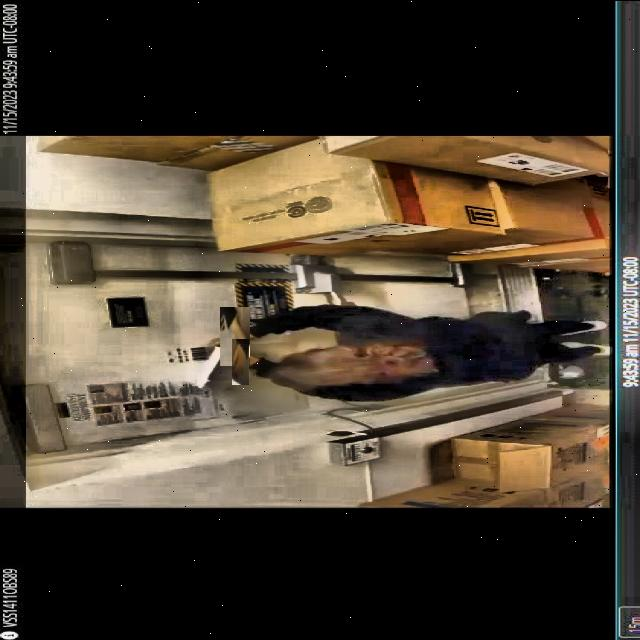not-gloved: (212, 313, 257, 358), (224, 345, 256, 377)
